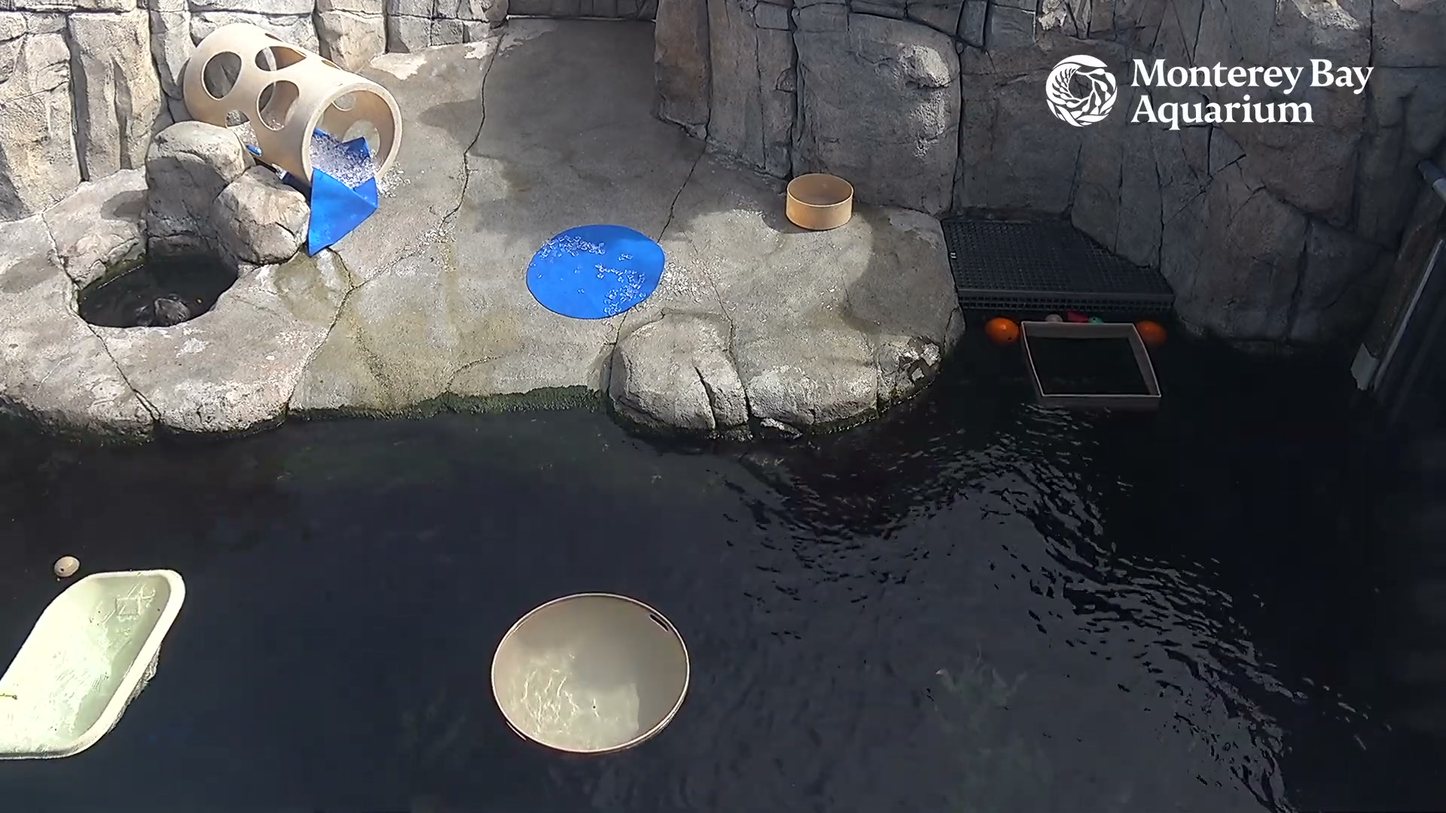Southern Sea Otter: (126, 288, 200, 339)
